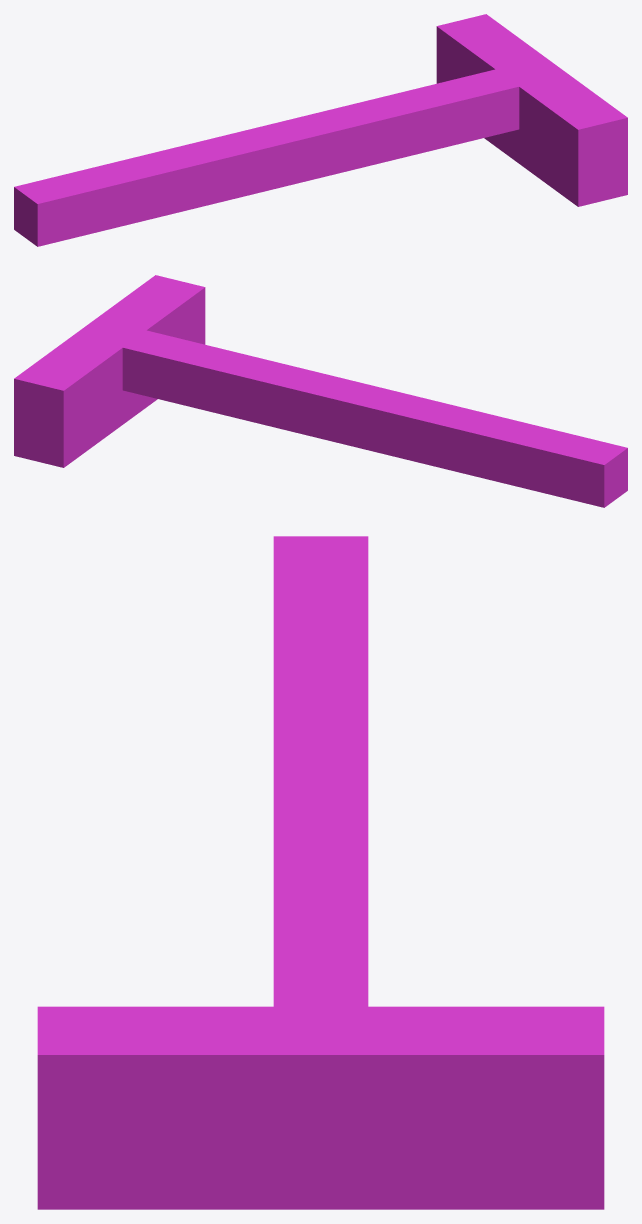
The model's file is Razor.glb.
The picture shows the model from 3 angles, top to bottom: view 1: azimuth 30°, elevation 25°; view 2: azimuth 150°, elevation 25°; view 3: azimuth 270°, elevation 25°; orthographic projection. The views are drawn at different scales.
Parts seen in each view (by area): view 1: Cube; view 2: Cube; view 3: Cube.
Part boxes in pixels (x1=…): Cube: x1=14, y1=14, x2=627, y2=246; Cube: x1=14, y1=275, x2=627, y2=507; Cube: x1=37, y1=536, x2=604, y2=1209.
Size of the model in its own units: 0.2599 by 0.0361 by 0.12.
